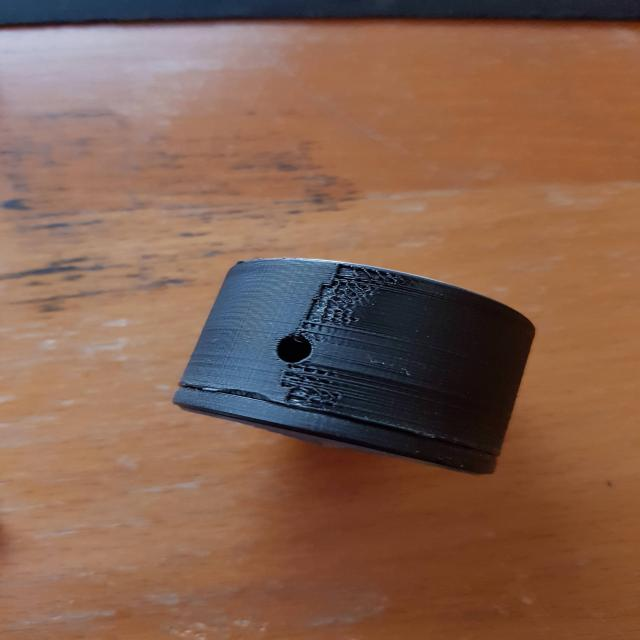cracks: (156, 371, 490, 470)
